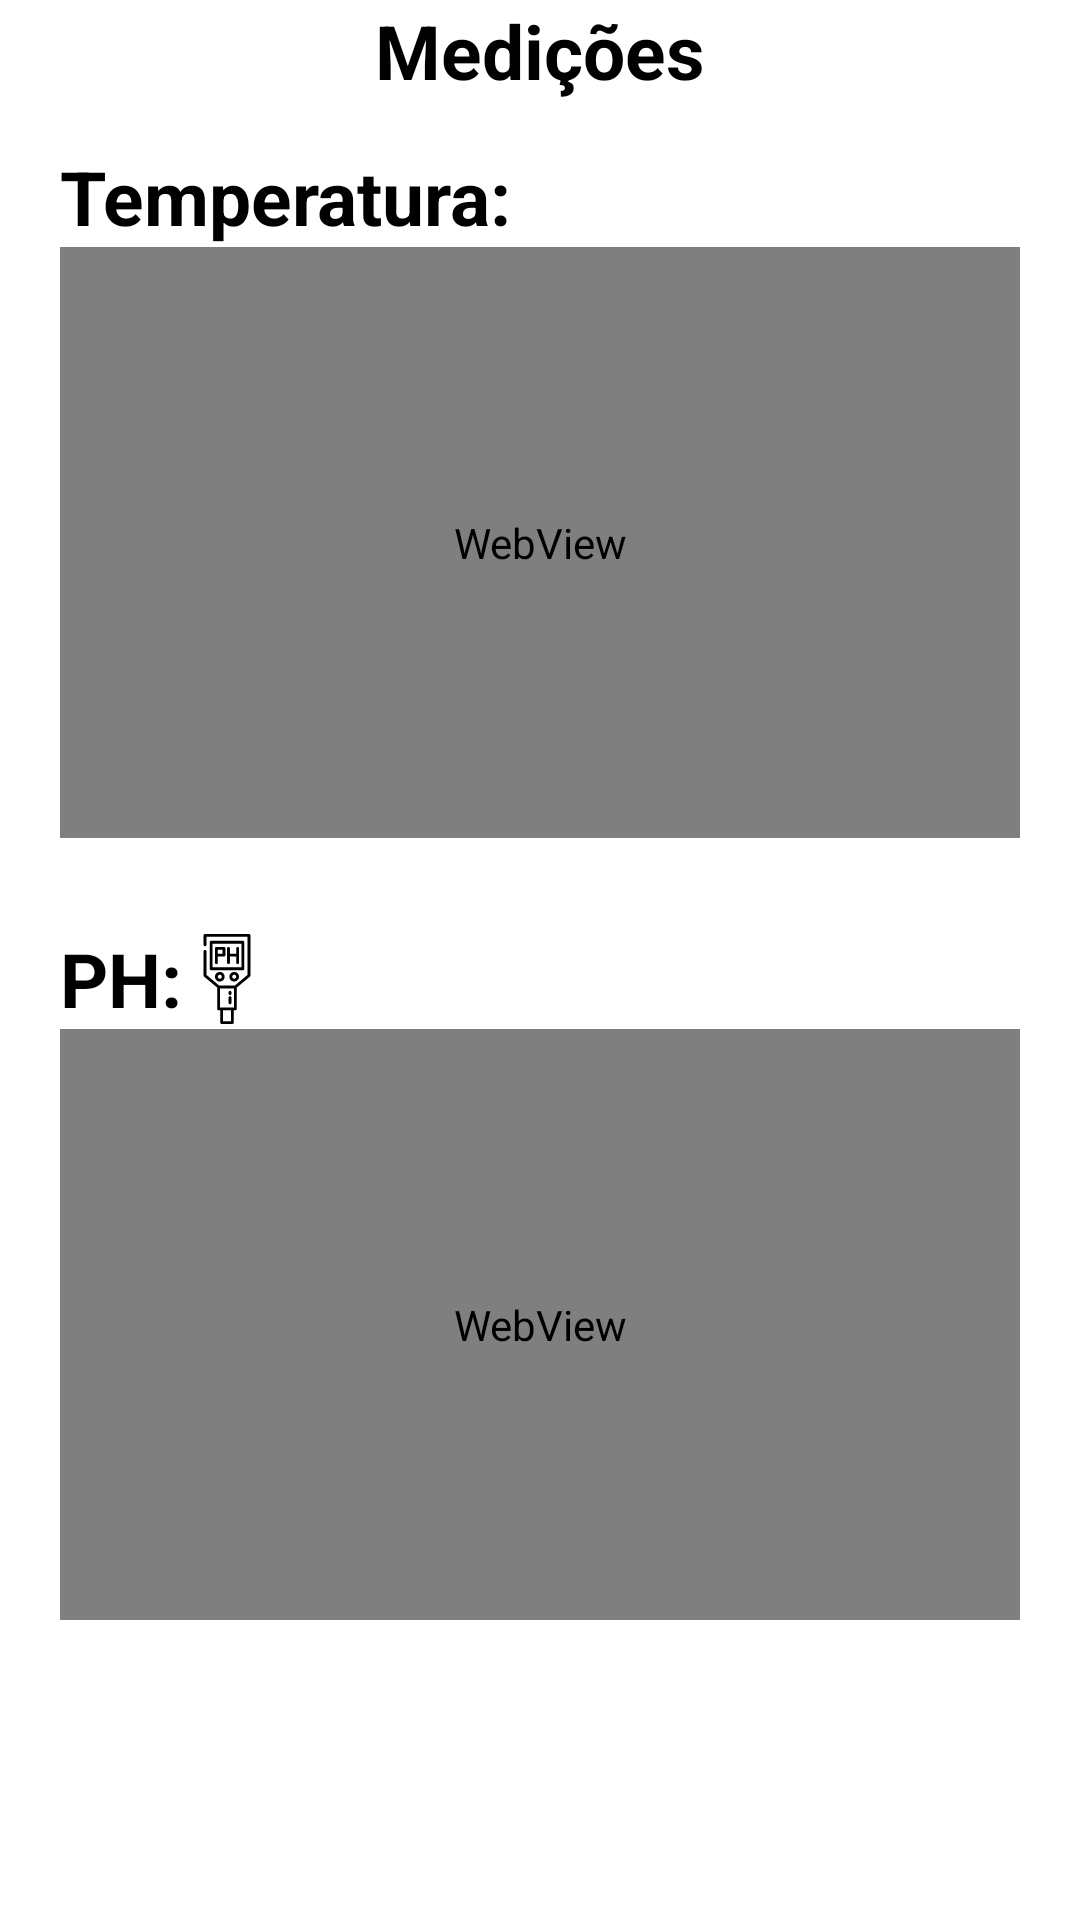

Screen size 1080 × 1920. Icon name, then its center in pixels as [x,y]:
meter lab: [227,979]
